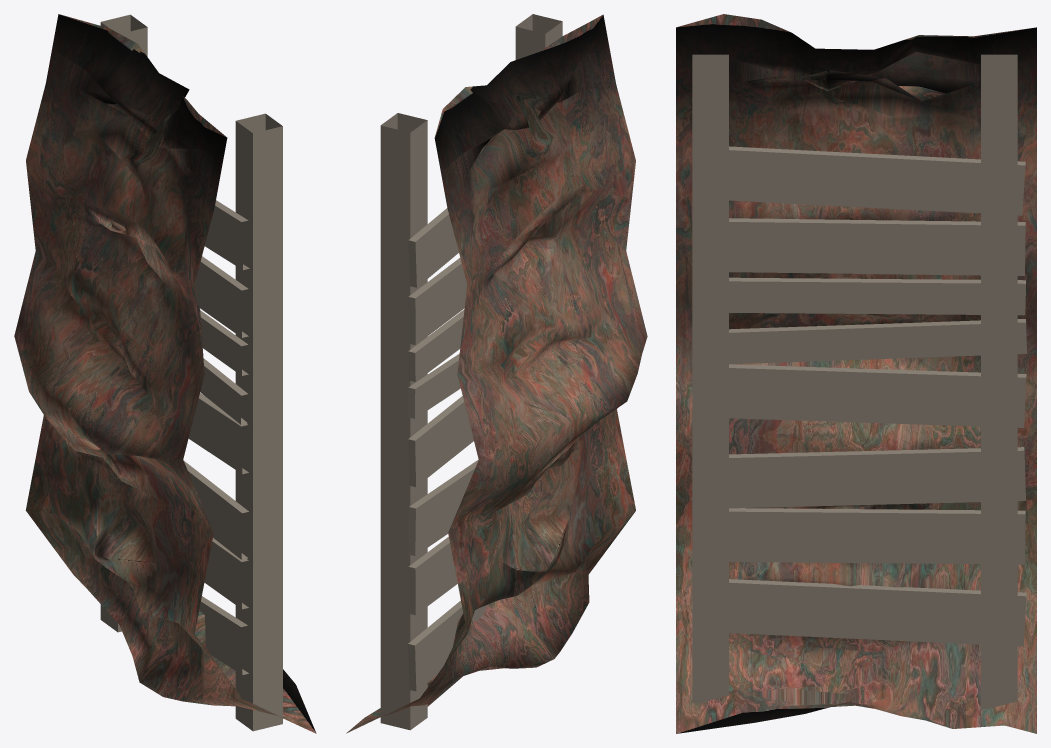
Rendered from cave_minewalls_wallwood.glb.
3 views of the same model, side by side, from view 1: azimuth 30°, elevation 25°; view 2: azimuth 150°, elevation 25°; view 3: azimuth 270°, elevation 25° (orthographic). The views are drawn at different scales.
Parts seen in each view (by area): view 1: wallwood-col; view 2: wallwood-col; view 3: wallwood-col.
Part boxes in pixels (<box>): wallwood-col: <box>14,14,316,733</box>; wallwood-col: <box>346,14,647,733</box>; wallwood-col: <box>676,14,1036,733</box>.
Size of the model in its own units: 1.22 by 4.1 by 2.
Materials: 2 (1 with a texture image).
